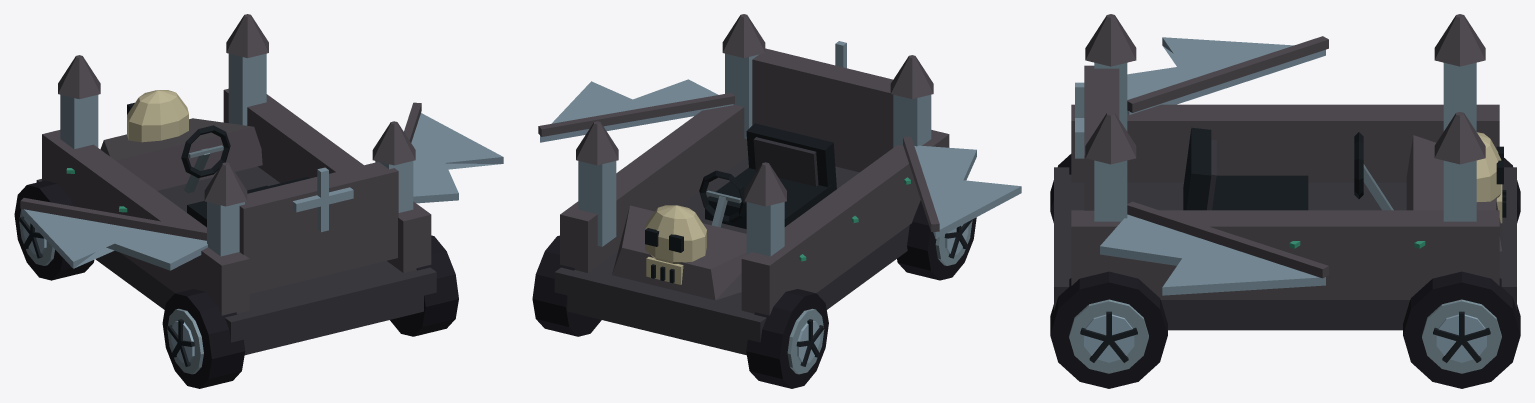
Rendered from kart.glb.
3 views of the same model, side by side, from view 1: azimuth 30°, elevation 25°; view 2: azimuth 150°, elevation 25°; view 3: azimuth 270°, elevation 25° (orthographic). The views are drawn at different scales.
Visible parts, largest first — view 1: identity-reliquary-reliquary-arched-stone-chest, identity-reliquary-motif-dragon-wings, wheel-rear-left, wheel-front-left, wheel-rear-right, identity-reliquary-motif-skull, identity-reliquary-driver-cockpit; view 2: identity-reliquary-reliquary-arched-stone-chest, identity-reliquary-motif-dragon-wings, identity-reliquary-driver-cockpit, wheel-front-left, identity-reliquary-motif-skull, wheel-rear-left, wheel-front-right; view 3: identity-reliquary-reliquary-arched-stone-chest, identity-reliquary-motif-dragon-wings, wheel-front-right, wheel-rear-right, identity-reliquary-driver-cockpit, identity-reliquary-motif-skull.
Part boxes in pixels (left/top/right/bottom): identity-reliquary-reliquary-arched-stone-chest: left=36, top=14, right=436, bottom=355; identity-reliquary-motif-dragon-wings: left=20, top=102, right=503, bottom=270; wheel-rear-left: left=162, top=289, right=245, bottom=388; wheel-front-left: left=14, top=180, right=94, bottom=280; wheel-rear-right: left=390, top=235, right=458, bottom=336; identity-reliquary-motif-skull: left=127, top=90, right=188, bottom=142; identity-reliquary-driver-cockpit: left=181, top=125, right=309, bottom=227; identity-reliquary-reliquary-arched-stone-chest: left=554, top=14, right=949, bottom=355; identity-reliquary-motif-dragon-wings: left=538, top=79, right=1021, bottom=238; identity-reliquary-driver-cockpit: left=699, top=123, right=836, bottom=229; wheel-front-left: left=746, top=289, right=828, bottom=388; identity-reliquary-motif-skull: left=645, top=205, right=706, bottom=284; wheel-rear-left: left=897, top=200, right=976, bottom=280; wheel-front-right: left=532, top=235, right=601, bottom=336; identity-reliquary-reliquary-arched-stone-chest: left=1054, top=14, right=1516, bottom=330; identity-reliquary-motif-dragon-wings: left=1100, top=36, right=1328, bottom=295; wheel-front-right: left=1403, top=271, right=1520, bottom=388; wheel-rear-right: left=1050, top=271, right=1167, bottom=388; identity-reliquary-driver-cockpit: left=1183, top=127, right=1393, bottom=210; identity-reliquary-motif-skull: left=1476, top=132, right=1506, bottom=223.
Bounding box in the file's own units: 3.22 × 1.51 × 2.56.
